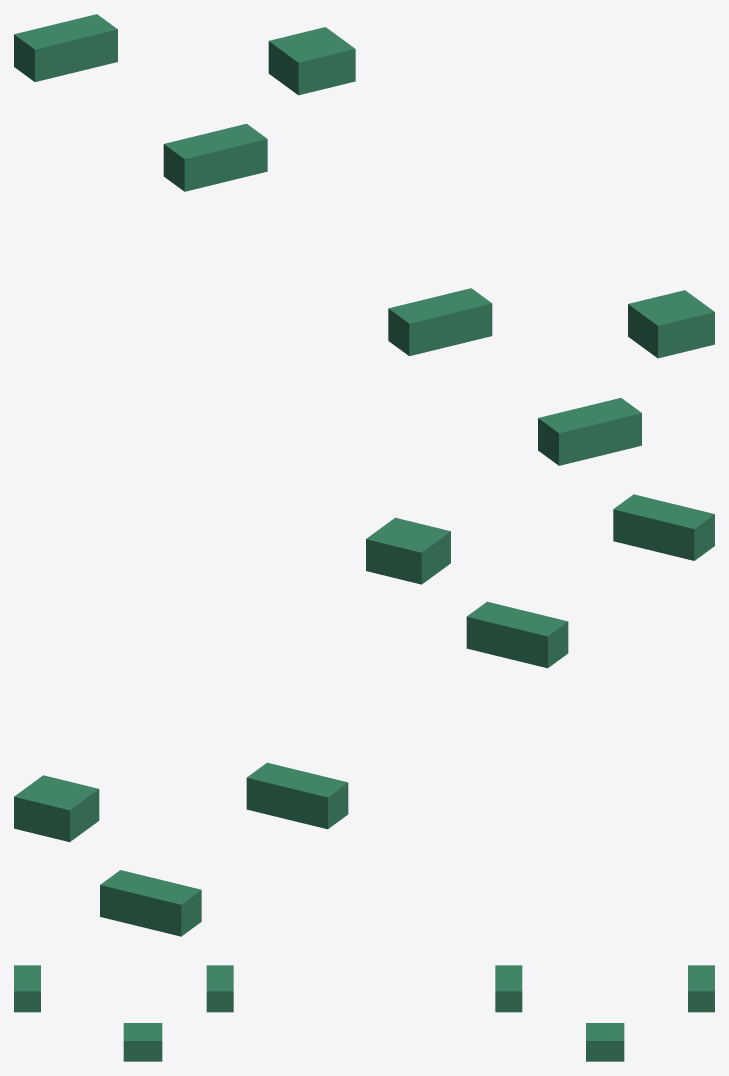
The model's file is mesin.glb.
3 renders of one model, top to bottom at view 1: azimuth 30°, elevation 25°; view 2: azimuth 150°, elevation 25°; view 3: azimuth 270°, elevation 25°, orthographic. The views are drawn at different scales.
Parts seen in each view (by area): view 1: mesin; view 2: mesin; view 3: mesin.
Boxes of the visible parts, box(x1,y1,x2,y2) form: mesin: box(14, 14, 714, 465); mesin: box(14, 494, 714, 936); mesin: box(14, 965, 714, 1061).
Size of the model in its own units: 9.3 by 1.2 by 36.4.
